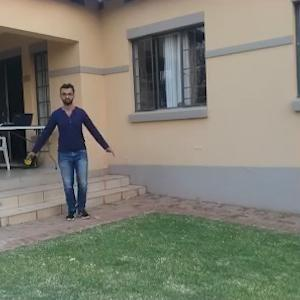land: (30, 93, 117, 231)
